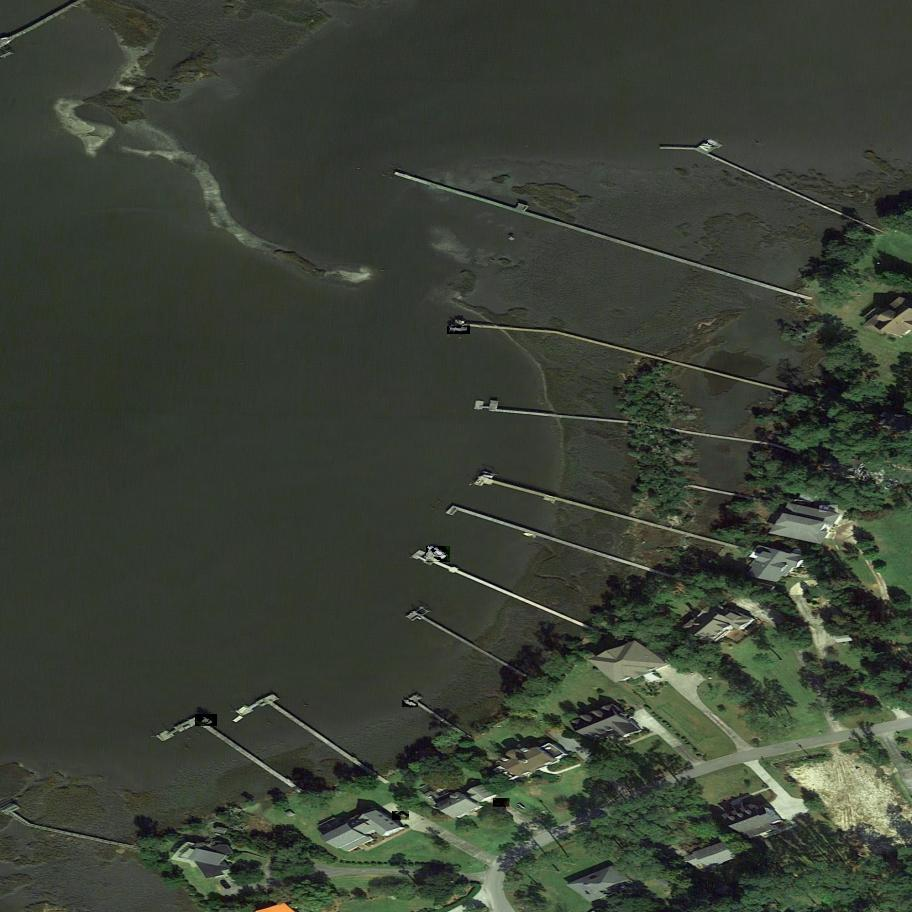ship: (426, 543, 450, 565), (196, 713, 218, 728), (447, 326, 470, 334), (707, 138, 719, 148), (403, 700, 418, 708)
small-vehicle: (493, 797, 510, 809), (392, 810, 409, 822), (819, 505, 838, 512)
